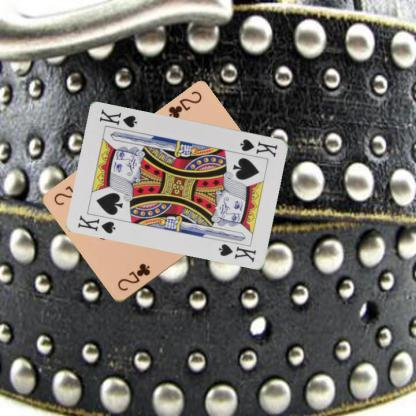2c: (166, 88, 204, 121), (114, 261, 152, 293)
Ks: (75, 213, 117, 235), (238, 136, 279, 158)
